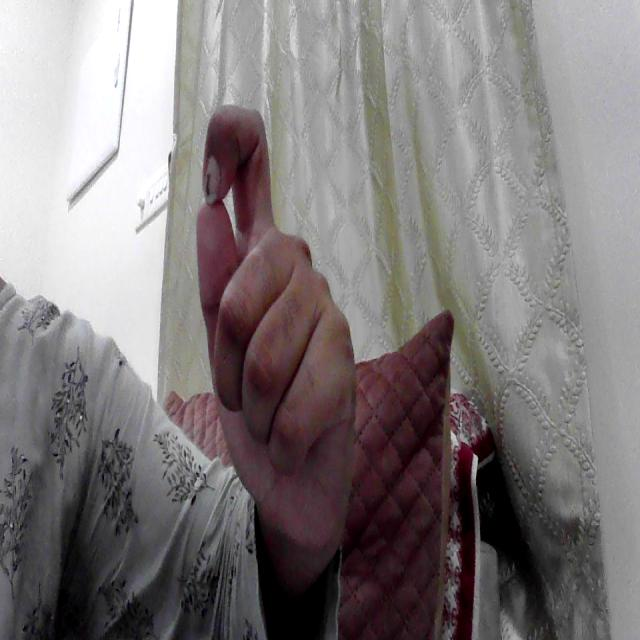Kapittha: (172, 78, 374, 596)
